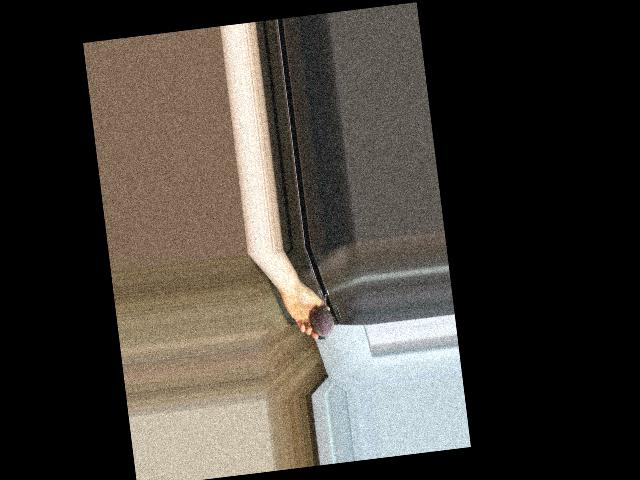beet: (308, 294, 335, 341)
